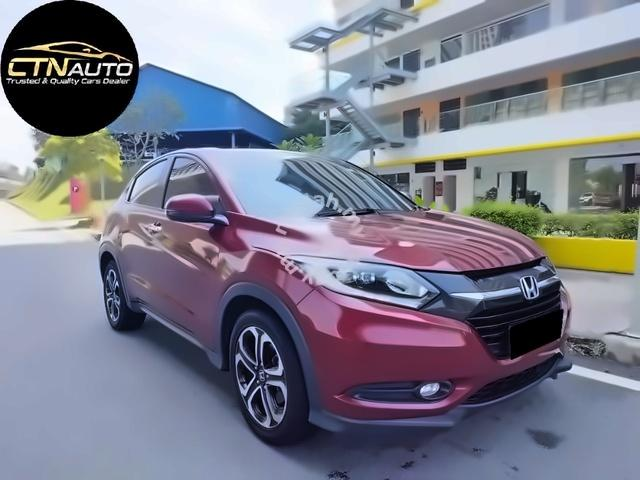Car hood: (239, 205, 546, 277)
Driver-s door - -F-R-: (139, 152, 232, 359)
Fender - -F-R-: (205, 192, 316, 324)
Fender - -R-R-: (94, 175, 136, 289)
Front bumper: (291, 262, 592, 455)
Headlight - -R-: (286, 252, 442, 312)
Passenger-s door - -R-R-: (120, 148, 175, 318)
Side bumper - -R-: (121, 285, 228, 381)
Side mirror - -R-: (165, 194, 227, 226)
